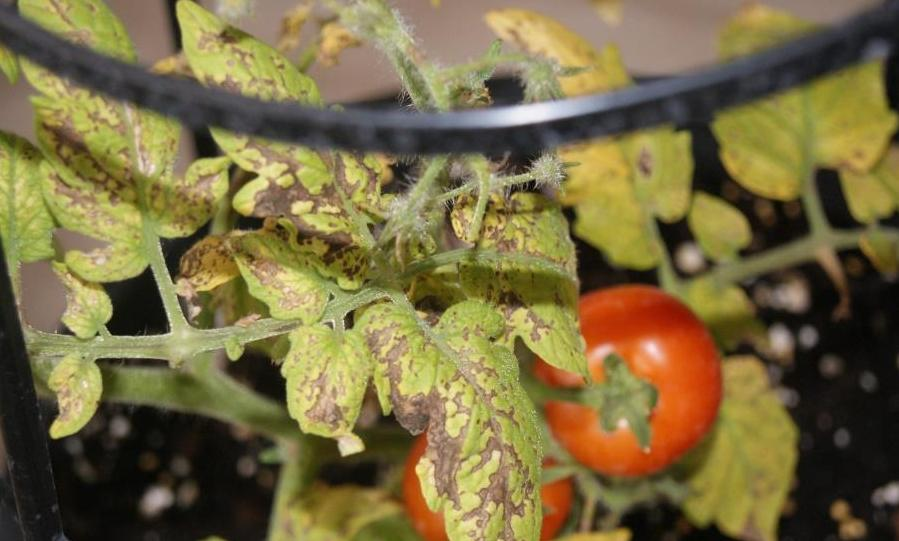Tomato leaf bacterial spot: (14, 0, 220, 303), (155, 0, 379, 251), (348, 276, 551, 541), (459, 183, 588, 377), (277, 315, 368, 456)
